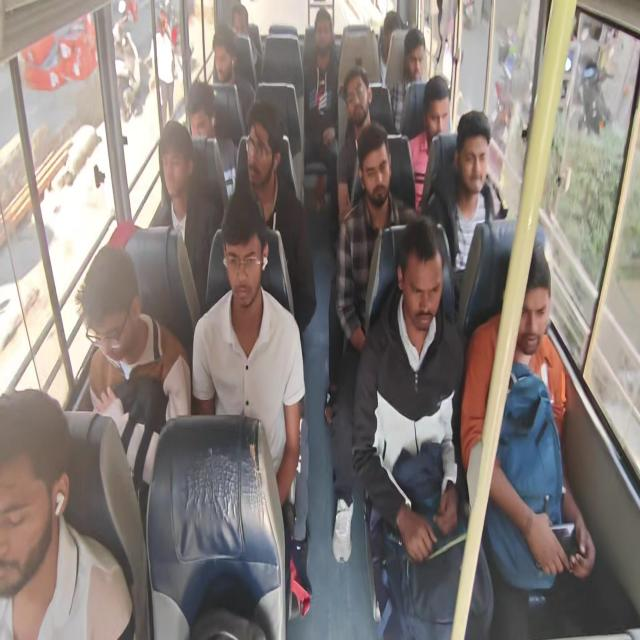person: (74, 4, 596, 636), (351, 215, 494, 638), (191, 190, 310, 604), (460, 241, 596, 593), (324, 122, 417, 562), (75, 244, 191, 536), (0, 388, 135, 638), (230, 100, 316, 338), (424, 109, 506, 296), (149, 120, 222, 312), (303, 8, 340, 226), (336, 66, 374, 226), (408, 74, 451, 212), (186, 80, 236, 198), (211, 25, 256, 133), (388, 28, 426, 132), (147, 8, 177, 128), (230, 3, 262, 91), (377, 9, 404, 86)
